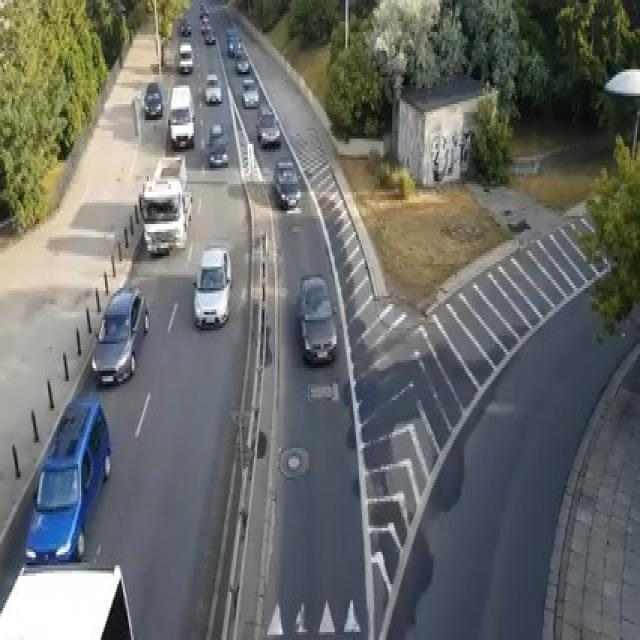bus: (0, 560, 135, 637)
car: (24, 394, 111, 562), (90, 283, 149, 384), (138, 176, 191, 253), (296, 275, 336, 365), (192, 245, 232, 328), (168, 82, 194, 146), (272, 160, 300, 208), (154, 155, 186, 192), (256, 106, 280, 146), (206, 123, 228, 165), (141, 80, 162, 117), (204, 72, 221, 104), (225, 24, 242, 56), (240, 77, 258, 107), (179, 40, 192, 72), (234, 48, 250, 72), (200, 16, 210, 35), (180, 18, 191, 34), (198, 2, 209, 18), (204, 32, 215, 43)
